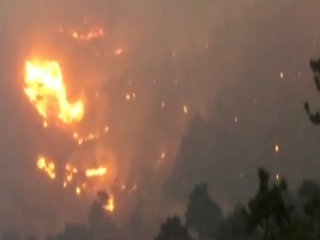fire: (36, 151, 130, 212), (17, 53, 87, 131), (65, 21, 111, 44)
